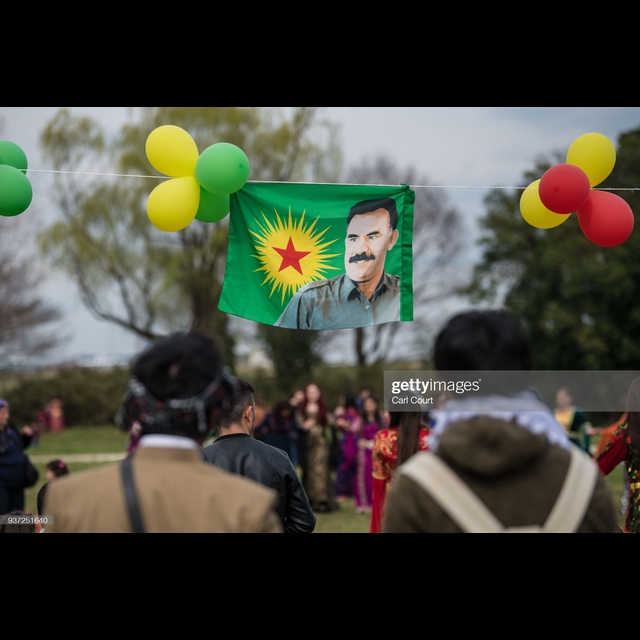APO: (338, 199, 396, 289)
KCK: (244, 207, 335, 303)
